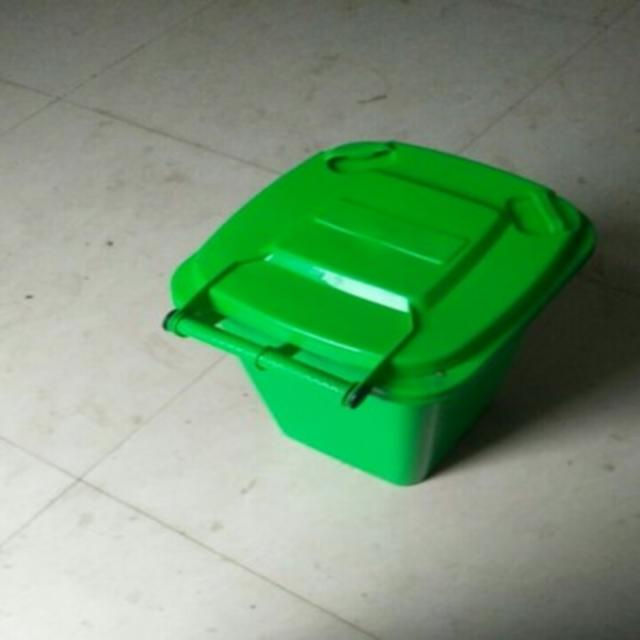ash bin: (158, 138, 599, 483)
